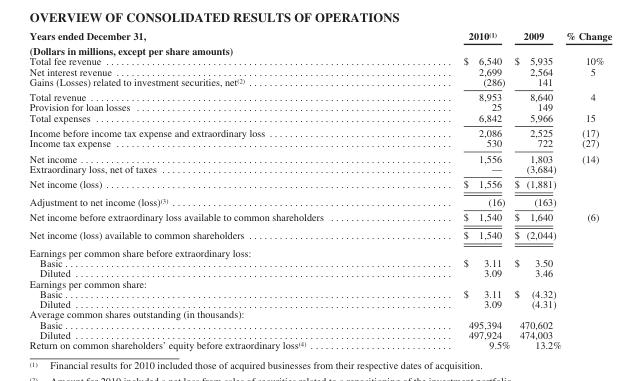table: (28, 29, 611, 350)
table column: (28, 29, 392, 350), (392, 29, 511, 350), (511, 29, 562, 350), (562, 29, 611, 350)
table column header: (28, 29, 611, 42)
table projected row header: (28, 243, 611, 257), (28, 42, 611, 55), (28, 278, 611, 288), (28, 308, 611, 318)
table row: (28, 225, 611, 243), (28, 175, 611, 192), (28, 192, 611, 209), (28, 209, 611, 225), (28, 243, 611, 257), (28, 29, 611, 42), (28, 42, 611, 55), (28, 76, 611, 89), (28, 124, 611, 137), (28, 137, 611, 150), (28, 150, 611, 163), (28, 89, 611, 101), (28, 112, 611, 124), (28, 163, 611, 175), (28, 55, 611, 66), (28, 101, 611, 112), (28, 267, 611, 278), (28, 318, 611, 329), (28, 339, 611, 350), (28, 66, 611, 76), (28, 257, 611, 267), (28, 278, 611, 288), (28, 288, 611, 298), (28, 298, 611, 308), (28, 308, 611, 318), (28, 329, 611, 339)
